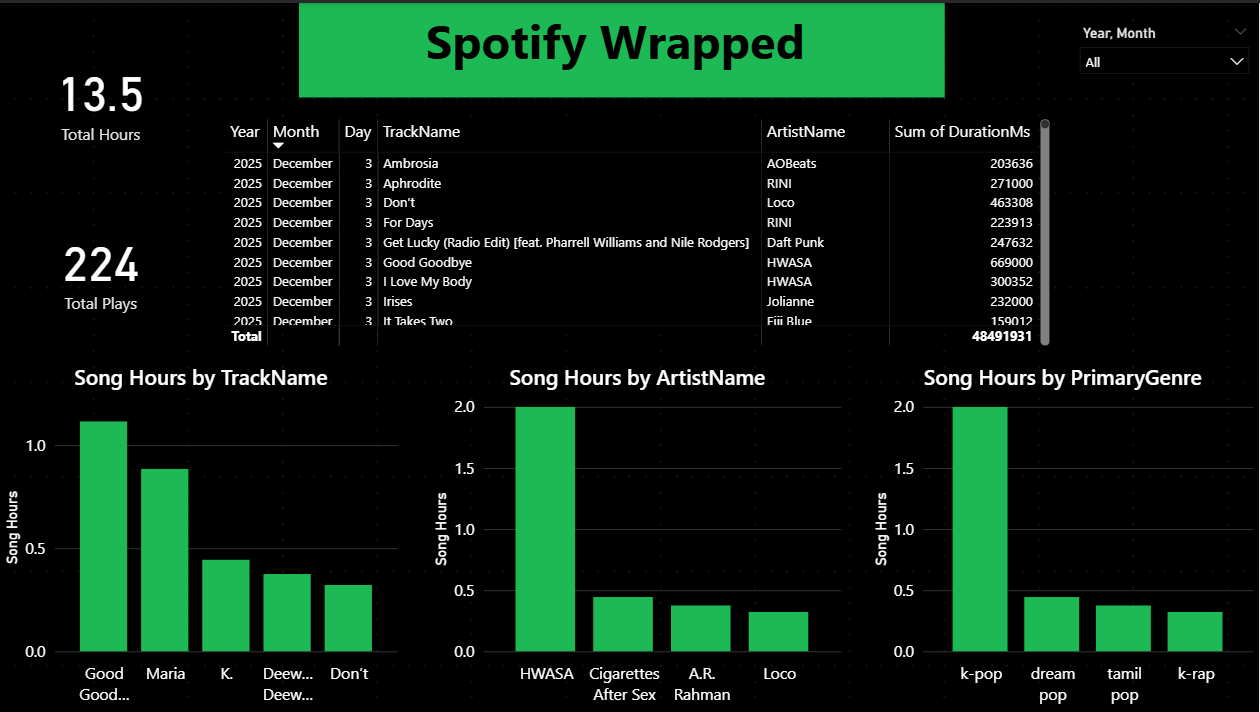

What the dashboard file says about the page in this screenshot:
{"tool":"powerbi","page":{"name":"Overview","canvas":[1280,720],"ordinal":0},"visuals":[{"type":"slicer","fields":{"Values":["SpotifyListeningHistory.Year","SpotifyListeningHistory.Month"]},"box":[1088,16,192,80],"z":0},{"type":"card","fields":{"Values":["SpotifyListeningHistory.Total Hours"]},"box":[0,22.7,206,149.3],"z":1000},{"type":"clusteredColumnChart","fields":{"Category":["SpotifyListeningHistory.TrackName"],"Y":["SpotifyListeningHistory.Song Hours"]},"box":[0,359.1,410.1,360.9],"z":2000},{"type":"clusteredColumnChart","fields":{"Y":["SpotifyListeningHistory.Song Hours"],"Category":["SpotifyListeningHistory.ArtistName"]},"box":[436.5,359.1,425.2,360.9],"z":3000},{"type":"clusteredColumnChart","fields":{"Category":["SpotifyListeningHistory.PrimaryGenre"],"Y":["SpotifyListeningHistory.Song Hours"]},"box":[882.5,359.1,396.9,360.9],"z":4000},{"type":"tableEx","fields":{"Values":["SpotifyListeningHistory.PlayedAtUtc.Variation.Date Hierarchy.Year","SpotifyListeningHistory.PlayedAtUtc.Variation.Date Hierarchy.Month","SpotifyListeningHistory.PlayedAtUtc.Variation.Date Hierarchy.Day","SpotifyListeningHistory.TrackName","SpotifyListeningHistory.ArtistName","SpotifyListeningHistory.DurationMs"]},"box":[224,112,848,240],"z":5000},{"type":"card","fields":{"Values":["SpotifyListeningHistory.Total Plays"]},"box":[0,194.6,206,149.3],"z":6000},{"type":"textbox","box":[304,0,656,96],"z":7000}]}

Visuals, with their boxes in screenshot pixels (x1, y1, x2, y2), scaled from the page's 1280x720 canvas onto the 1260x712 screenshot:
slicer - SpotifyListeningHistory.Year x SpotifyListeningHistory.Month: box(1071, 16, 1259, 95)
card - SpotifyListeningHistory.Total Hours: box(0, 22, 203, 170)
clusteredColumnChart - SpotifyListeningHistory.TrackName x SpotifyListeningHistory.Song Hours: box(0, 355, 404, 711)
clusteredColumnChart - SpotifyListeningHistory.Song Hours x SpotifyListeningHistory.ArtistName: box(430, 355, 848, 711)
clusteredColumnChart - SpotifyListeningHistory.PrimaryGenre x SpotifyListeningHistory.Song Hours: box(869, 355, 1259, 711)
tableEx - SpotifyListeningHistory.PlayedAtUtc.Variation.Date Hierarchy.Year x SpotifyListeningHistory.PlayedAtUtc.Variation.Date Hierarchy.Month: box(220, 111, 1055, 348)
card - SpotifyListeningHistory.Total Plays: box(0, 192, 203, 340)
textbox: box(299, 0, 945, 95)
